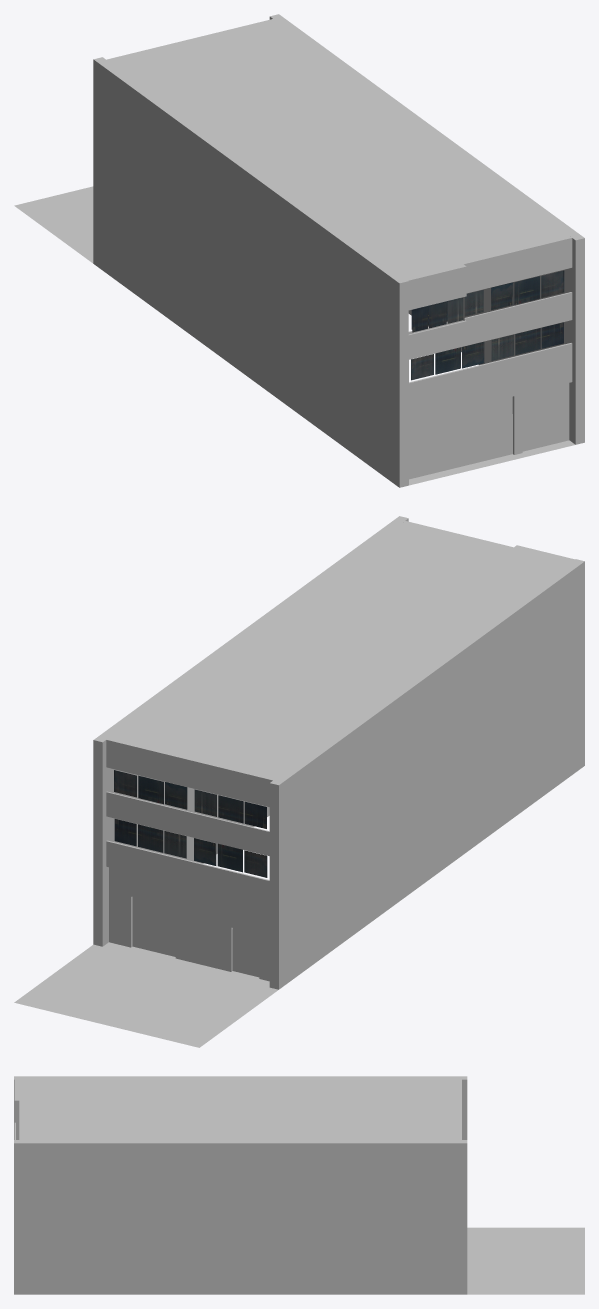
3 views of the same model, one above another, from view 1: azimuth 30°, elevation 25°; view 2: azimuth 150°, elevation 25°; view 3: azimuth 270°, elevation 25° (orthographic). The views are drawn at different scales.
Parts seen in each view (by area): view 1: BB-043; view 2: BB-043; view 3: BB-043.
Boxes of the visible parts, <box> form: BB-043: <box>14,14,584,487</box>; BB-043: <box>14,516,584,1047</box>; BB-043: <box>14,1076,584,1294</box>.
Size of what is drawn, in the model's own units: 10 by 10.53 by 36.
